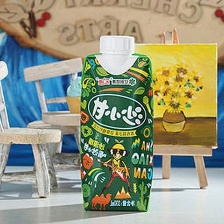carton: (75, 32, 158, 218)
